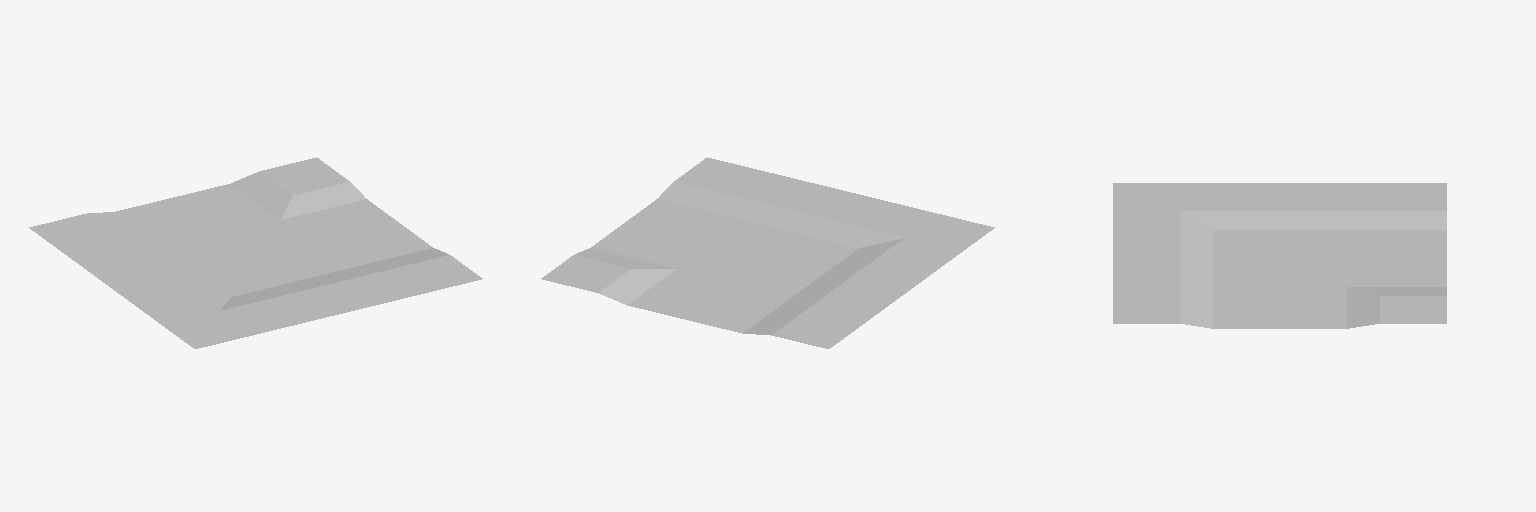
Rendered from path_curve.obj.
The picture shows the model from 3 angles: view 1: azimuth 30°, elevation 25°; view 2: azimuth 150°, elevation 25°; view 3: azimuth 270°, elevation 25°; orthographic projection.
Visible parts, largest first — view 1: ground_lftCurvePath_geo; view 2: ground_lftCurvePath_geo; view 3: ground_lftCurvePath_geo.
Boxes of the visible parts, box(x1,y1,x2,y2) form: ground_lftCurvePath_geo: box(29, 157, 482, 348); ground_lftCurvePath_geo: box(541, 157, 994, 348); ground_lftCurvePath_geo: box(1113, 183, 1446, 328).
Size of the model in its own units: 6 by 0.1031 by 6.